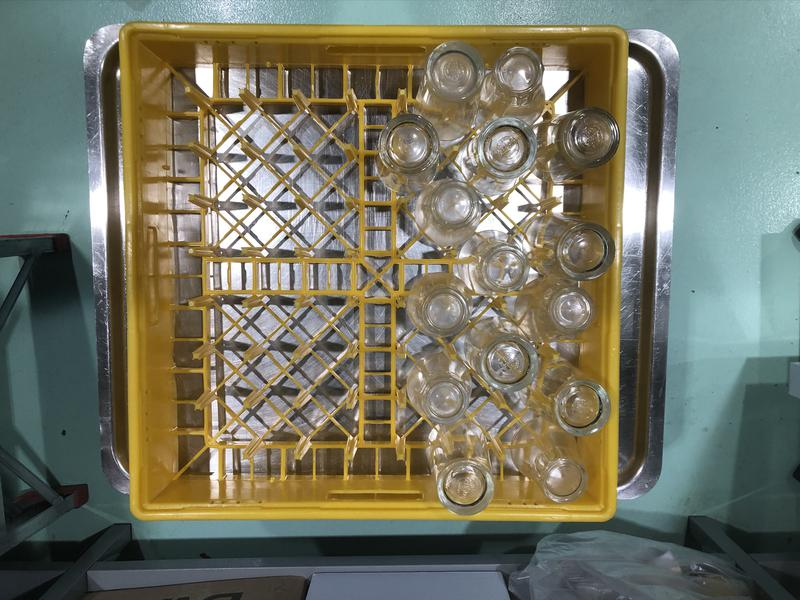Glass: (424, 419, 497, 516), (413, 41, 482, 141), (511, 414, 587, 503), (536, 106, 620, 186), (520, 212, 614, 280), (535, 358, 612, 439), (466, 117, 537, 192), (516, 275, 594, 342), (481, 44, 547, 123), (465, 318, 537, 389), (375, 112, 438, 192), (460, 229, 530, 301), (414, 179, 480, 251), (405, 350, 468, 425), (405, 271, 472, 340)
